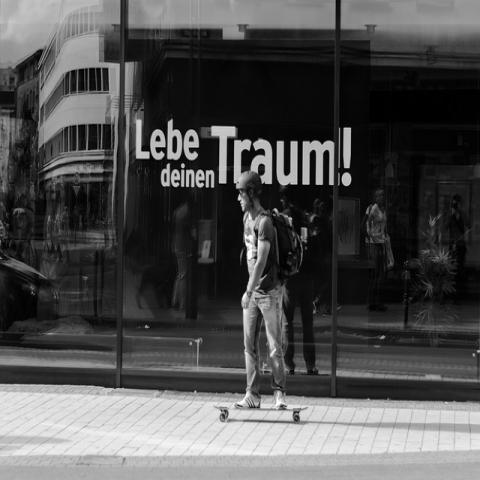car: (2, 250, 62, 338)
